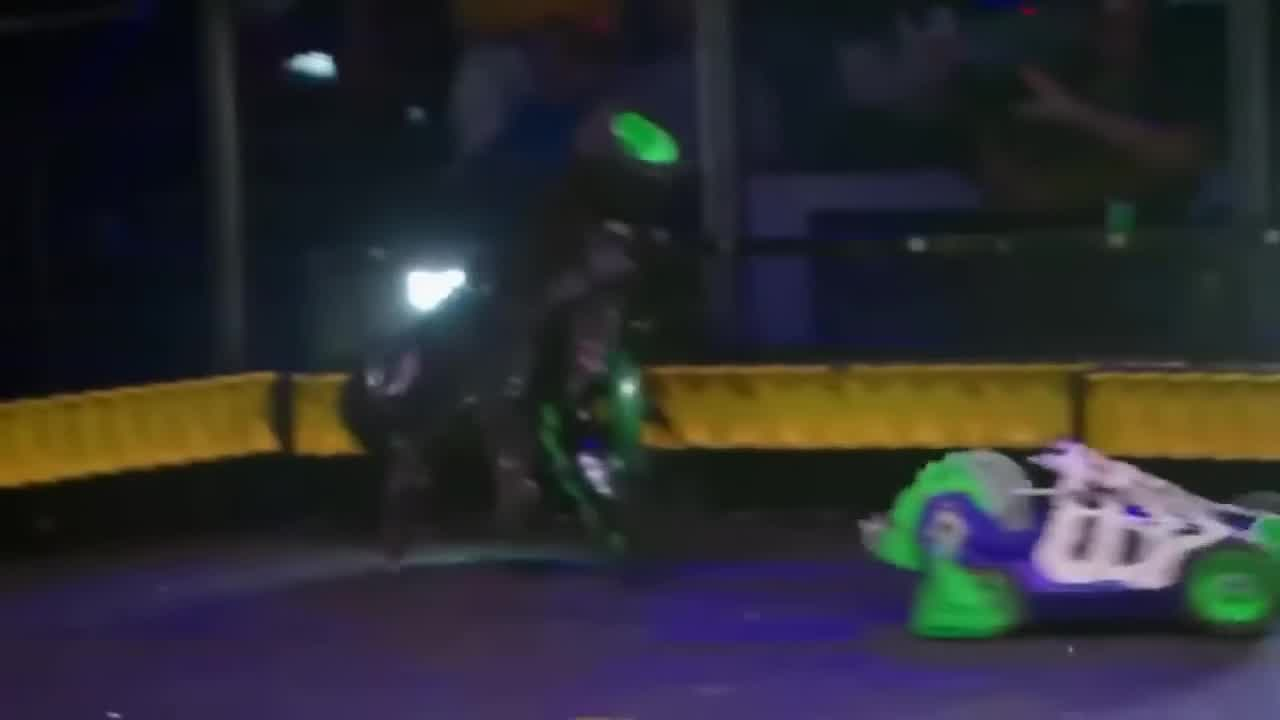combatbot: (337, 182, 675, 571), (857, 439, 1280, 641)
